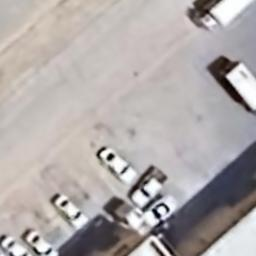pickup: (126, 164, 168, 211)
sedan: (95, 144, 139, 185), (50, 192, 90, 232), (139, 192, 178, 227), (22, 228, 60, 256), (1, 235, 34, 256)
truck: (217, 58, 256, 113), (194, 0, 256, 33)
